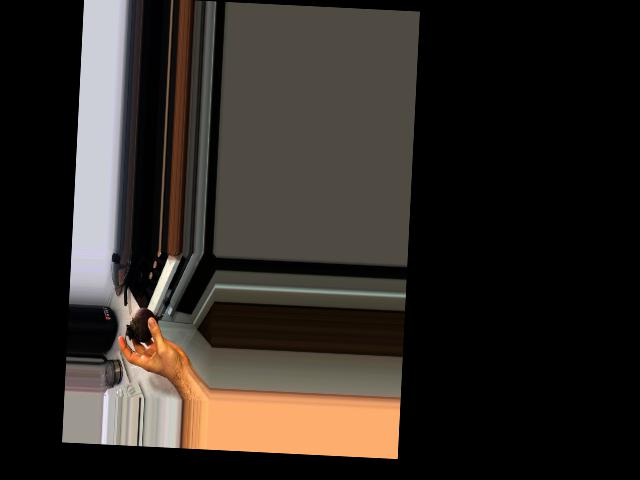beet: (125, 307, 164, 352)
